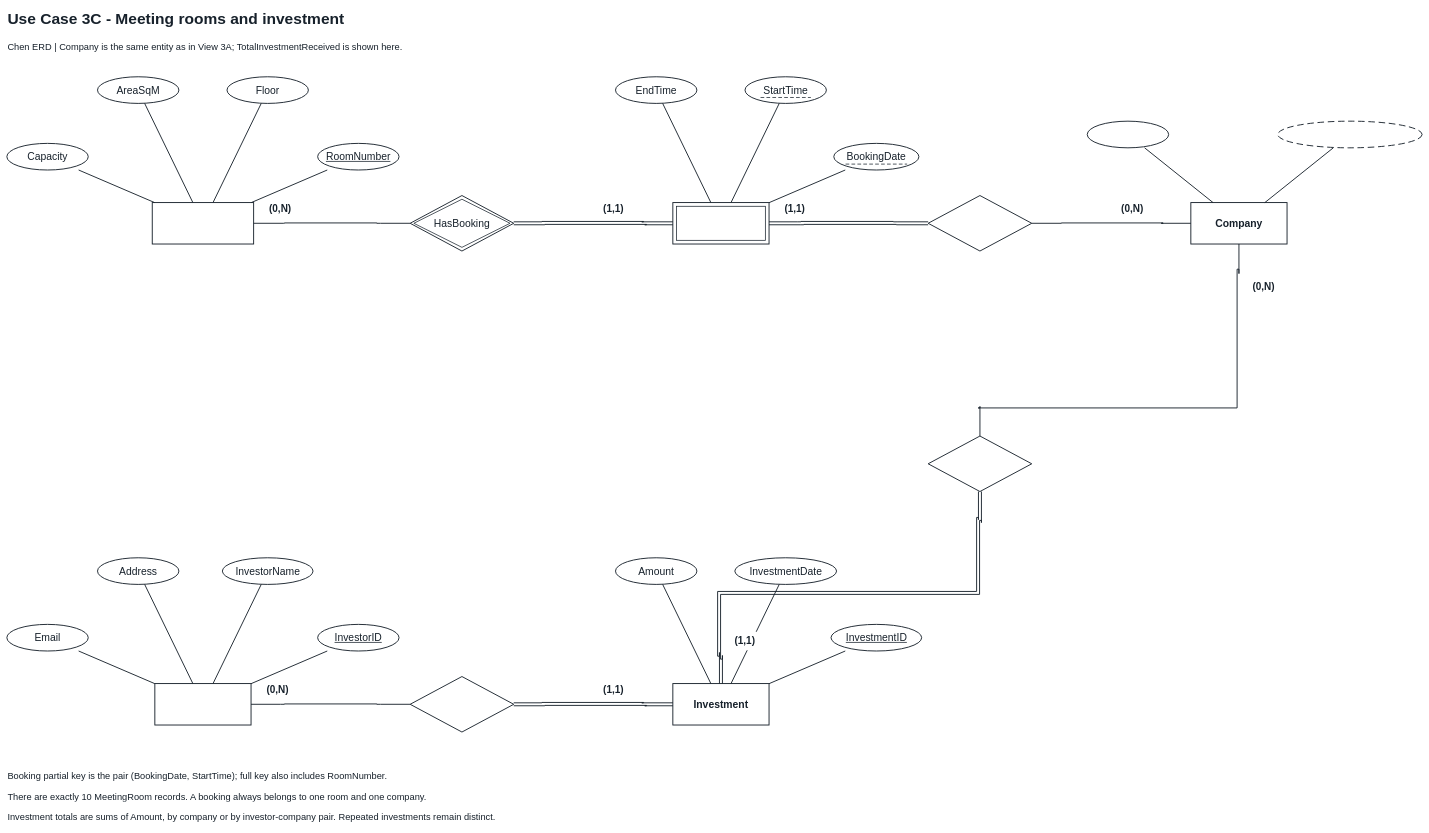
Image size: 1429x833. Some labels were removed from this diagram. The box of each missing label's shape, as (x1, y1, x2, y2) in pixels:
Booking: (672, 202, 769, 244)
Investor: (154, 683, 251, 725)
MadeBy: (928, 195, 1032, 251)
MeetingRoom: (152, 202, 254, 244)
ProvidedBy: (410, 676, 514, 732)
ReceivedBy: (928, 435, 1032, 492)
TaxNumber: (1087, 121, 1169, 148)
TotalInvestmentReceived: (1277, 121, 1422, 148)
